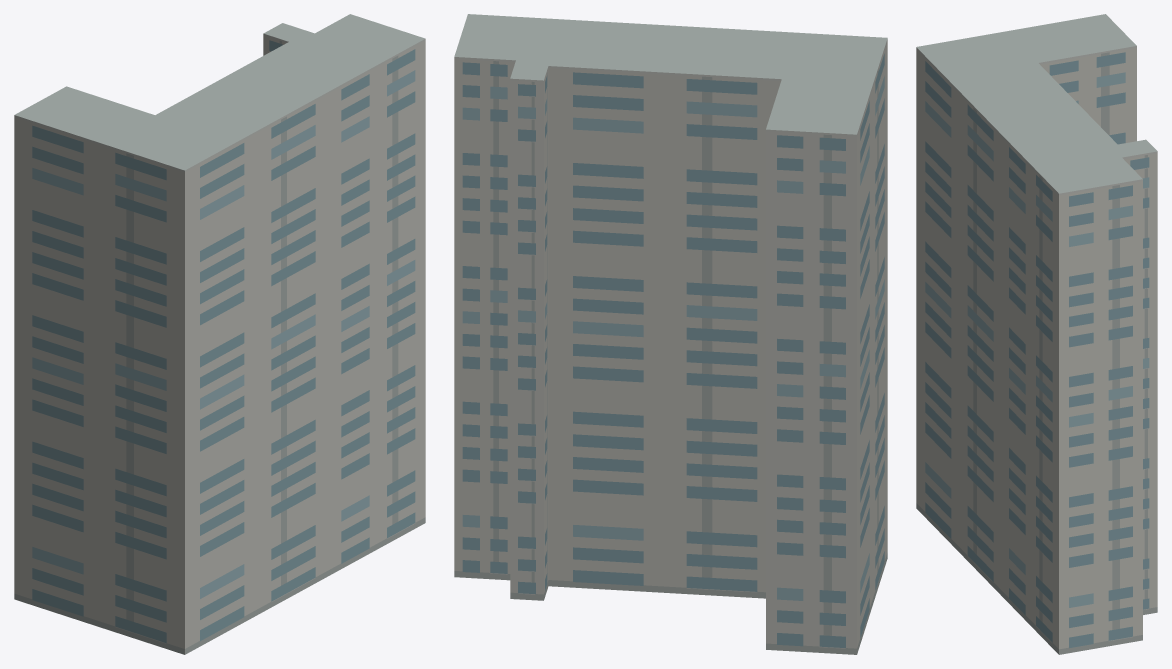
The model's file is residential-816fb308-5157-4154-a95a-7a285a7f302d.glb.
3 renders of one model, left to right at view 1: azimuth 30°, elevation 25°; view 2: azimuth 150°, elevation 25°; view 3: azimuth 270°, elevation 25°, orthographic. The views are drawn at different scales.
Parts seen in each view (by area): view 1: residential-816fb308-5157-4154-a95a-7a285a7f302d.tmp; view 2: residential-816fb308-5157-4154-a95a-7a285a7f302d.tmp; view 3: residential-816fb308-5157-4154-a95a-7a285a7f302d.tmp.
Boxes of the visible parts, x1,y1,x2,y2 form: residential-816fb308-5157-4154-a95a-7a285a7f302d.tmp: (14,14,425,654); residential-816fb308-5157-4154-a95a-7a285a7f302d.tmp: (454,14,887,654); residential-816fb308-5157-4154-a95a-7a285a7f302d.tmp: (916,14,1157,654).
Bounding box in the file's own units: 55.16 × 66 × 31.34.
